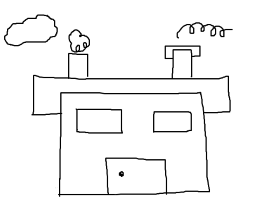clouds: (2, 12, 59, 46)
door: (101, 151, 174, 196)
open_window: (75, 108, 123, 134), (154, 111, 192, 133)
roof: (30, 73, 231, 116)
smoking_chimney: (161, 18, 238, 77), (61, 20, 96, 78)
wall: (56, 89, 214, 201)
